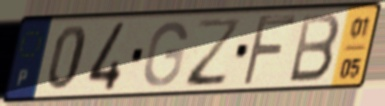0: (44, 23, 88, 94)
4: (84, 19, 126, 93)
B: (286, 12, 343, 86)
F: (239, 13, 298, 89)
G: (141, 19, 190, 89)
Z: (184, 15, 245, 89)
